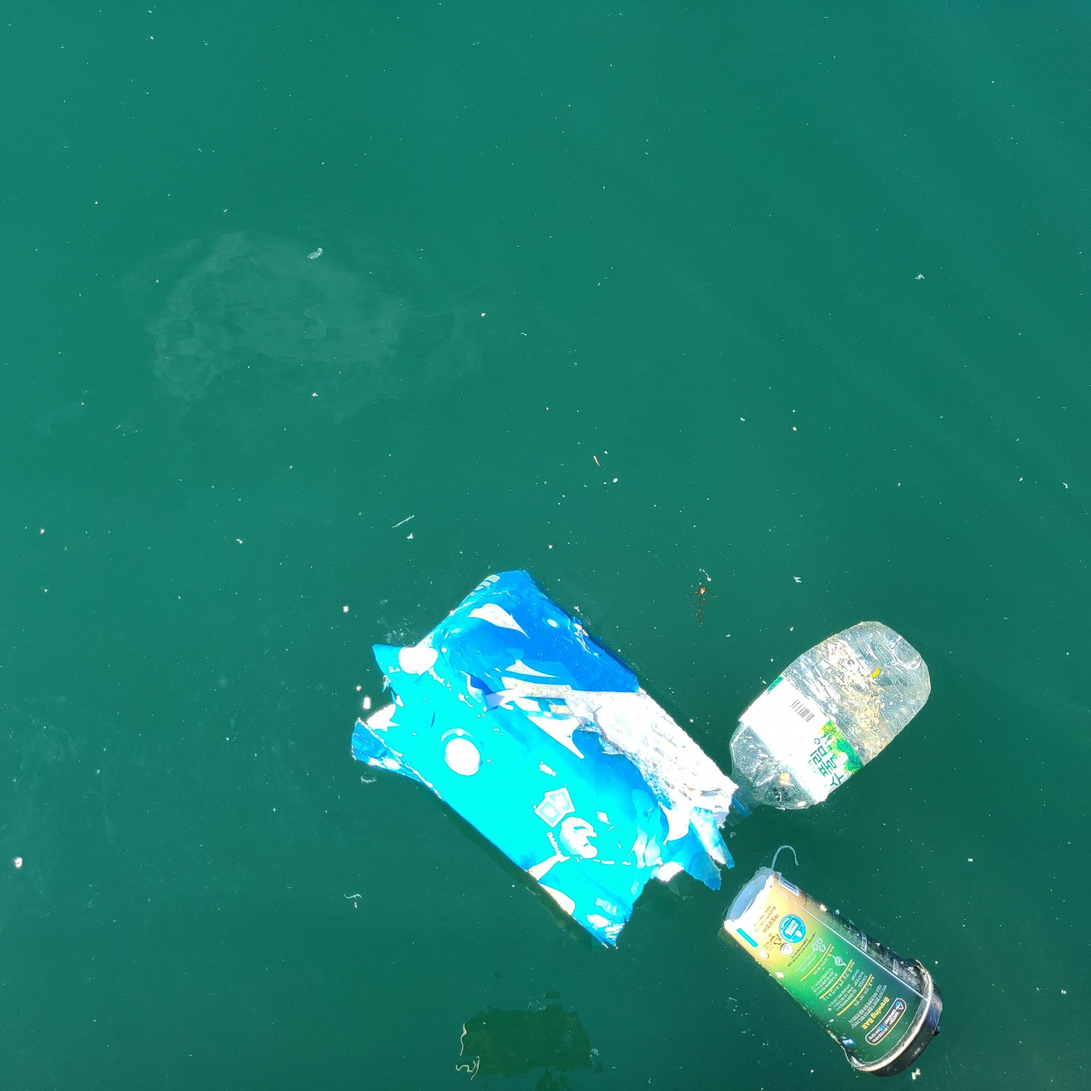sampah_terapung: (368, 570, 739, 950), (724, 868, 944, 1078), (726, 621, 932, 828)
